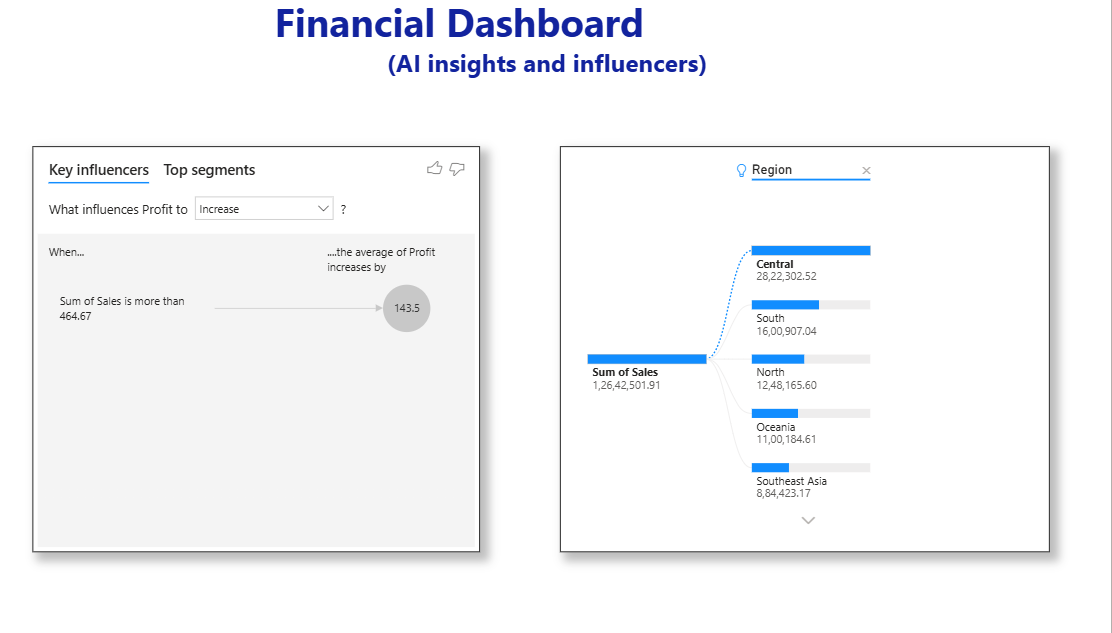

What the dashboard file says about the page in this screenshot:
{"tool":"powerbi","page":{"name":"Page 2","canvas":[1280,720],"ordinal":1},"visuals":[{"type":"keyDriversVisual","fields":{"Target":["Sheet1.Profit"],"ExplainBy":["Sum(Sheet1.Sales)"]},"box":[96.1,171.5,491.3,446],"z":0},{"type":"decompositionTreeVisual","fields":{"Analyze":["Sum(Sheet1.Sales)"],"ExplainBy":["Sheet1.Region"]},"box":[675.1,171.5,537.9,446],"z":1},{"type":"textbox","box":[356.8,0,564,127.6],"z":2}]}

Visuals, with their boxes in screenshot pixels (x1, y1, x2, y2), scaled from the page's 1280x720 canvas onto the 1112x633 screenshot:
keyDriversVisual - Sheet1.Profit x Sum(Sheet1.Sales): {"x1": 83, "y1": 151, "x2": 510, "y2": 543}
decompositionTreeVisual - Sum(Sheet1.Sales) x Sheet1.Region: {"x1": 586, "y1": 151, "x2": 1054, "y2": 543}
textbox: {"x1": 310, "y1": 0, "x2": 800, "y2": 112}
